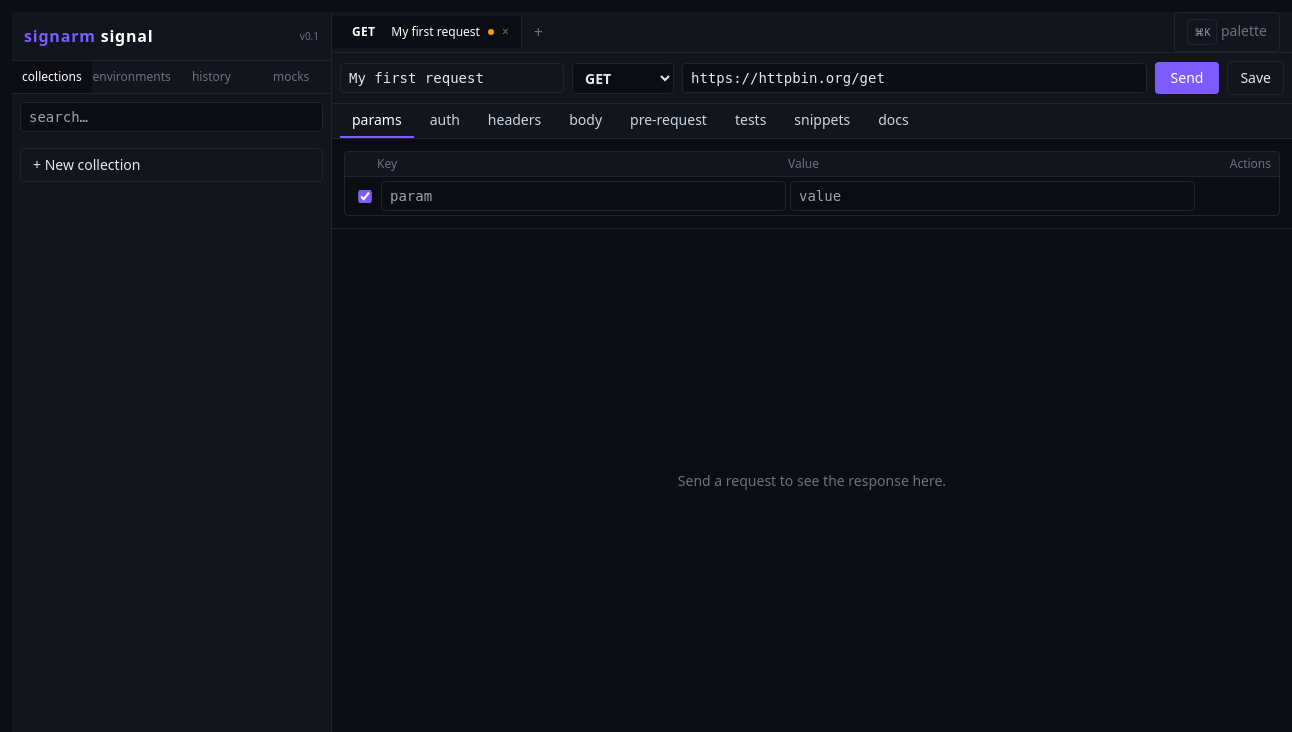
Scenario: collections › creates a collection via the sidebar
What coordinates should you click on to do the following:
click the button "+ New collection"
I would click on:
 (87, 164)
Its box is [20,148,323,182].
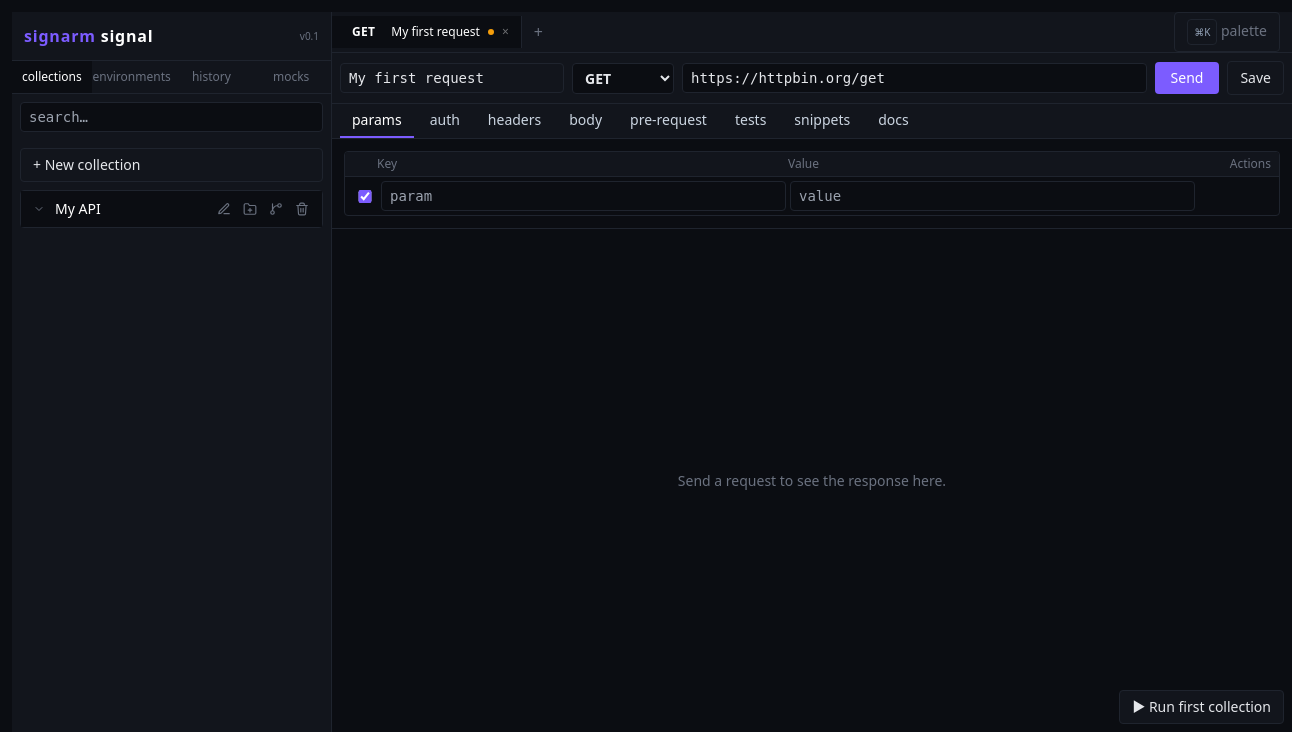
Now the text "My API" is shown, box [55,199,101,218]
